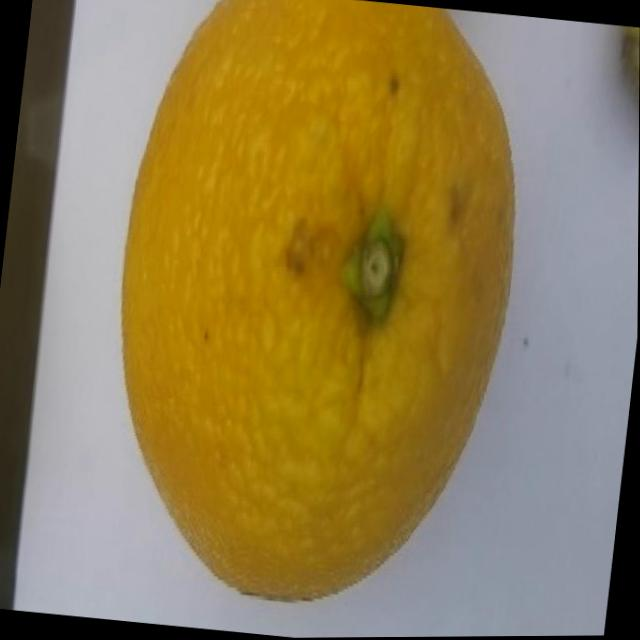Orange: (86, 0, 541, 623)
